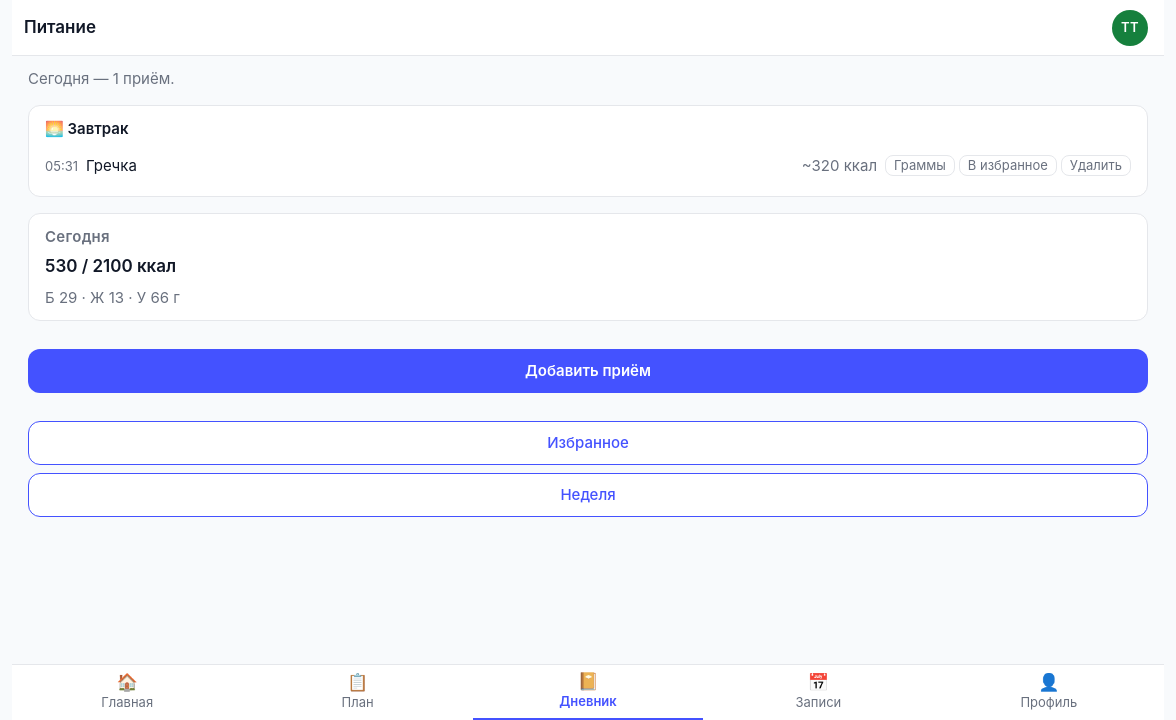
Test case: правка и удаление записи (DRF-1838) › «Удалить» убирает запись, перечитывает день и предлагает вернуть
The width and height of the screenshot is (1176, 720).
What coordinates should you click on to do the following:
click the button with aria-label "Удалить: Гречка"
I would click on:
 (1096, 166)
Its box is [1061,155,1131,176].
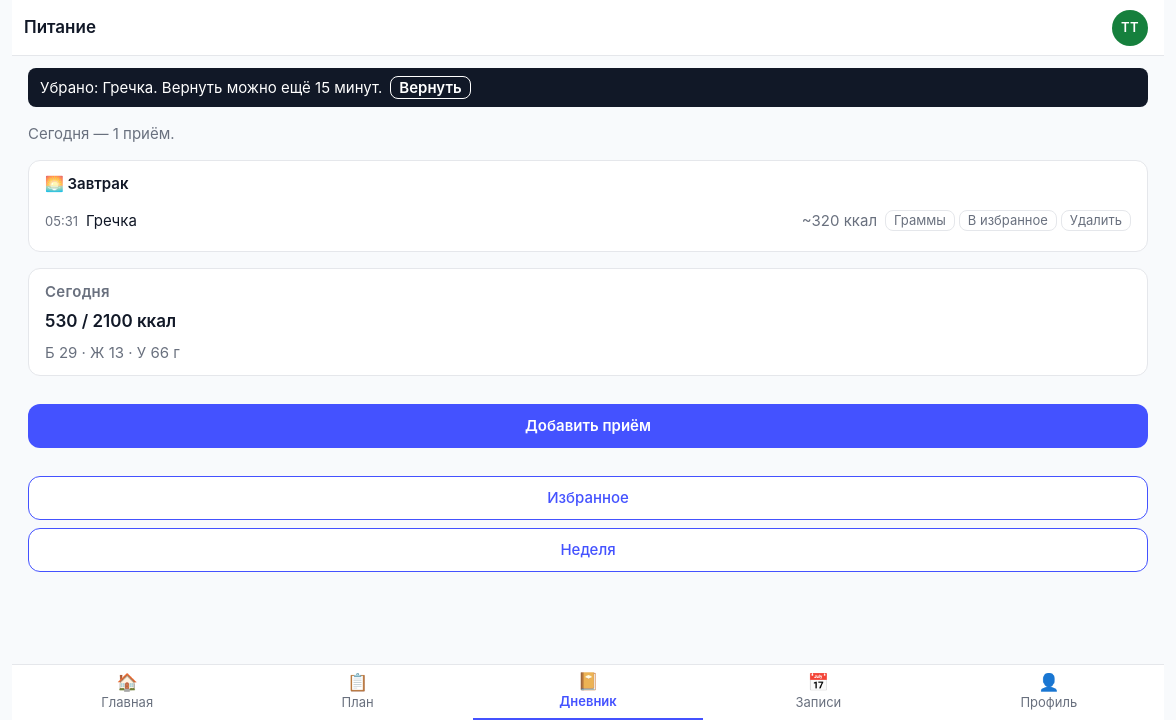
Now the text "Убрано: Гречка. Вернуть можно ещё 15 минут." is shown, box [40,77,382,98]
Now the button "Вернуть" is shown, box [390,76,471,99]
